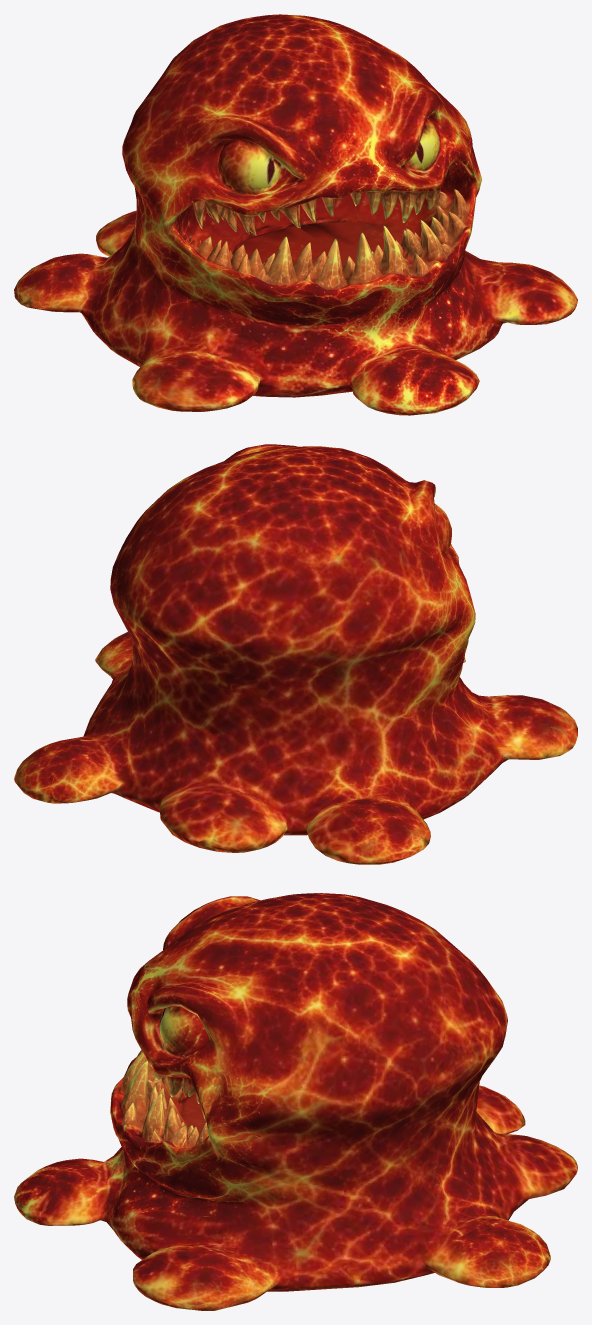
File: egel.glb
3 renders of one model, top to bottom at view 1: azimuth 30°, elevation 25°; view 2: azimuth 150°, elevation 25°; view 3: azimuth 270°, elevation 25°, orthographic. The views are drawn at different scales.
Bounding box in the file's own units: 1.79 × 1.09 × 1.9.
1 material, 1 textured.
